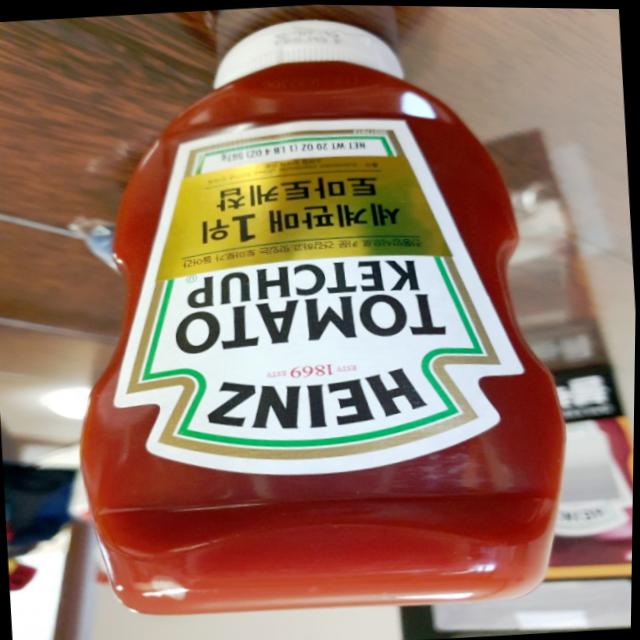ketchup: (39, 1, 594, 638)
